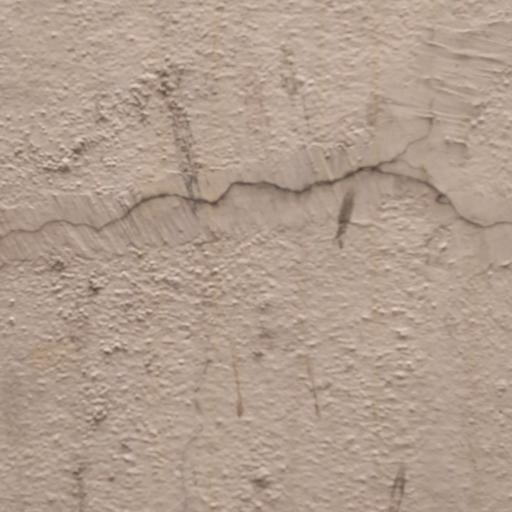minor_crack: (0, 90, 512, 245)
